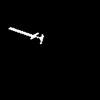double_crochet: (9, 27, 43, 43)
